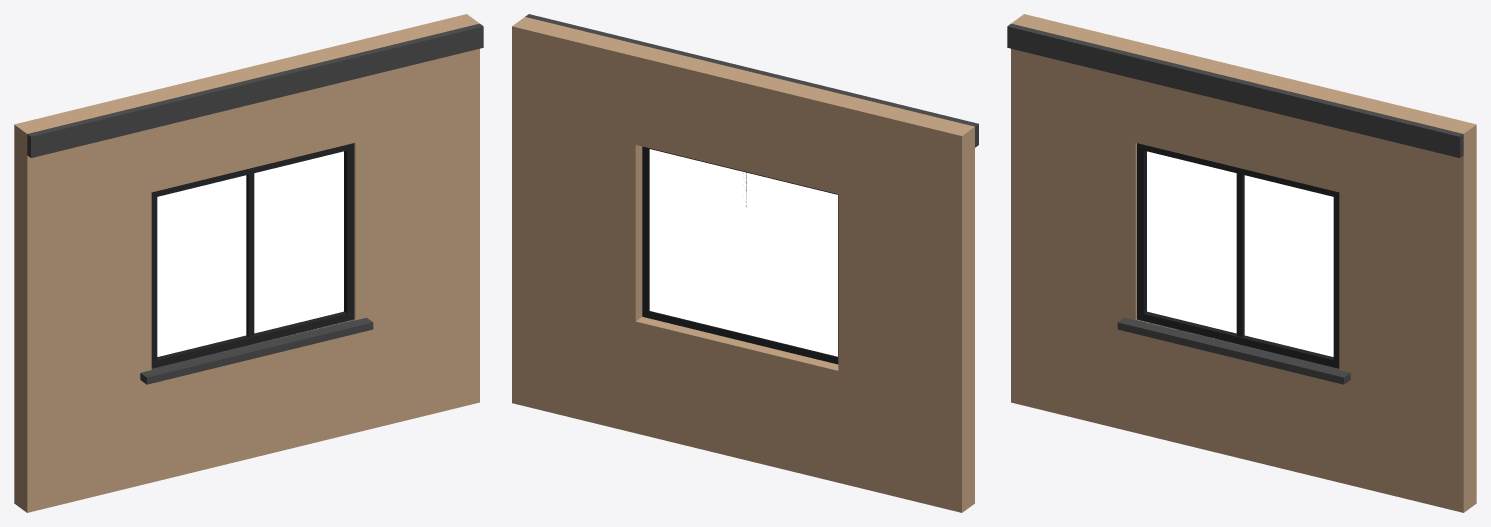
Rendered from KIT_Wall_4m_WindowLit_Warm.glb.
The picture shows the model from 3 angles, left to right: view 1: azimuth 30°, elevation 25°; view 2: azimuth 150°, elevation 25°; view 3: azimuth 330°, elevation 25°; orthographic projection.
Visible parts, largest first — view 1: KIT_Wall_4m_WindowLit_Warm; view 2: KIT_Wall_4m_WindowLit_Warm; view 3: KIT_Wall_4m_WindowLit_Warm.
Boxes of the visible parts, x1,y1,x2,y2 form: KIT_Wall_4m_WindowLit_Warm: (14,14,483,512); KIT_Wall_4m_WindowLit_Warm: (512,14,978,512); KIT_Wall_4m_WindowLit_Warm: (1007,14,1476,512).
Size of the model in its own units: 4 by 3.2 by 0.3.
